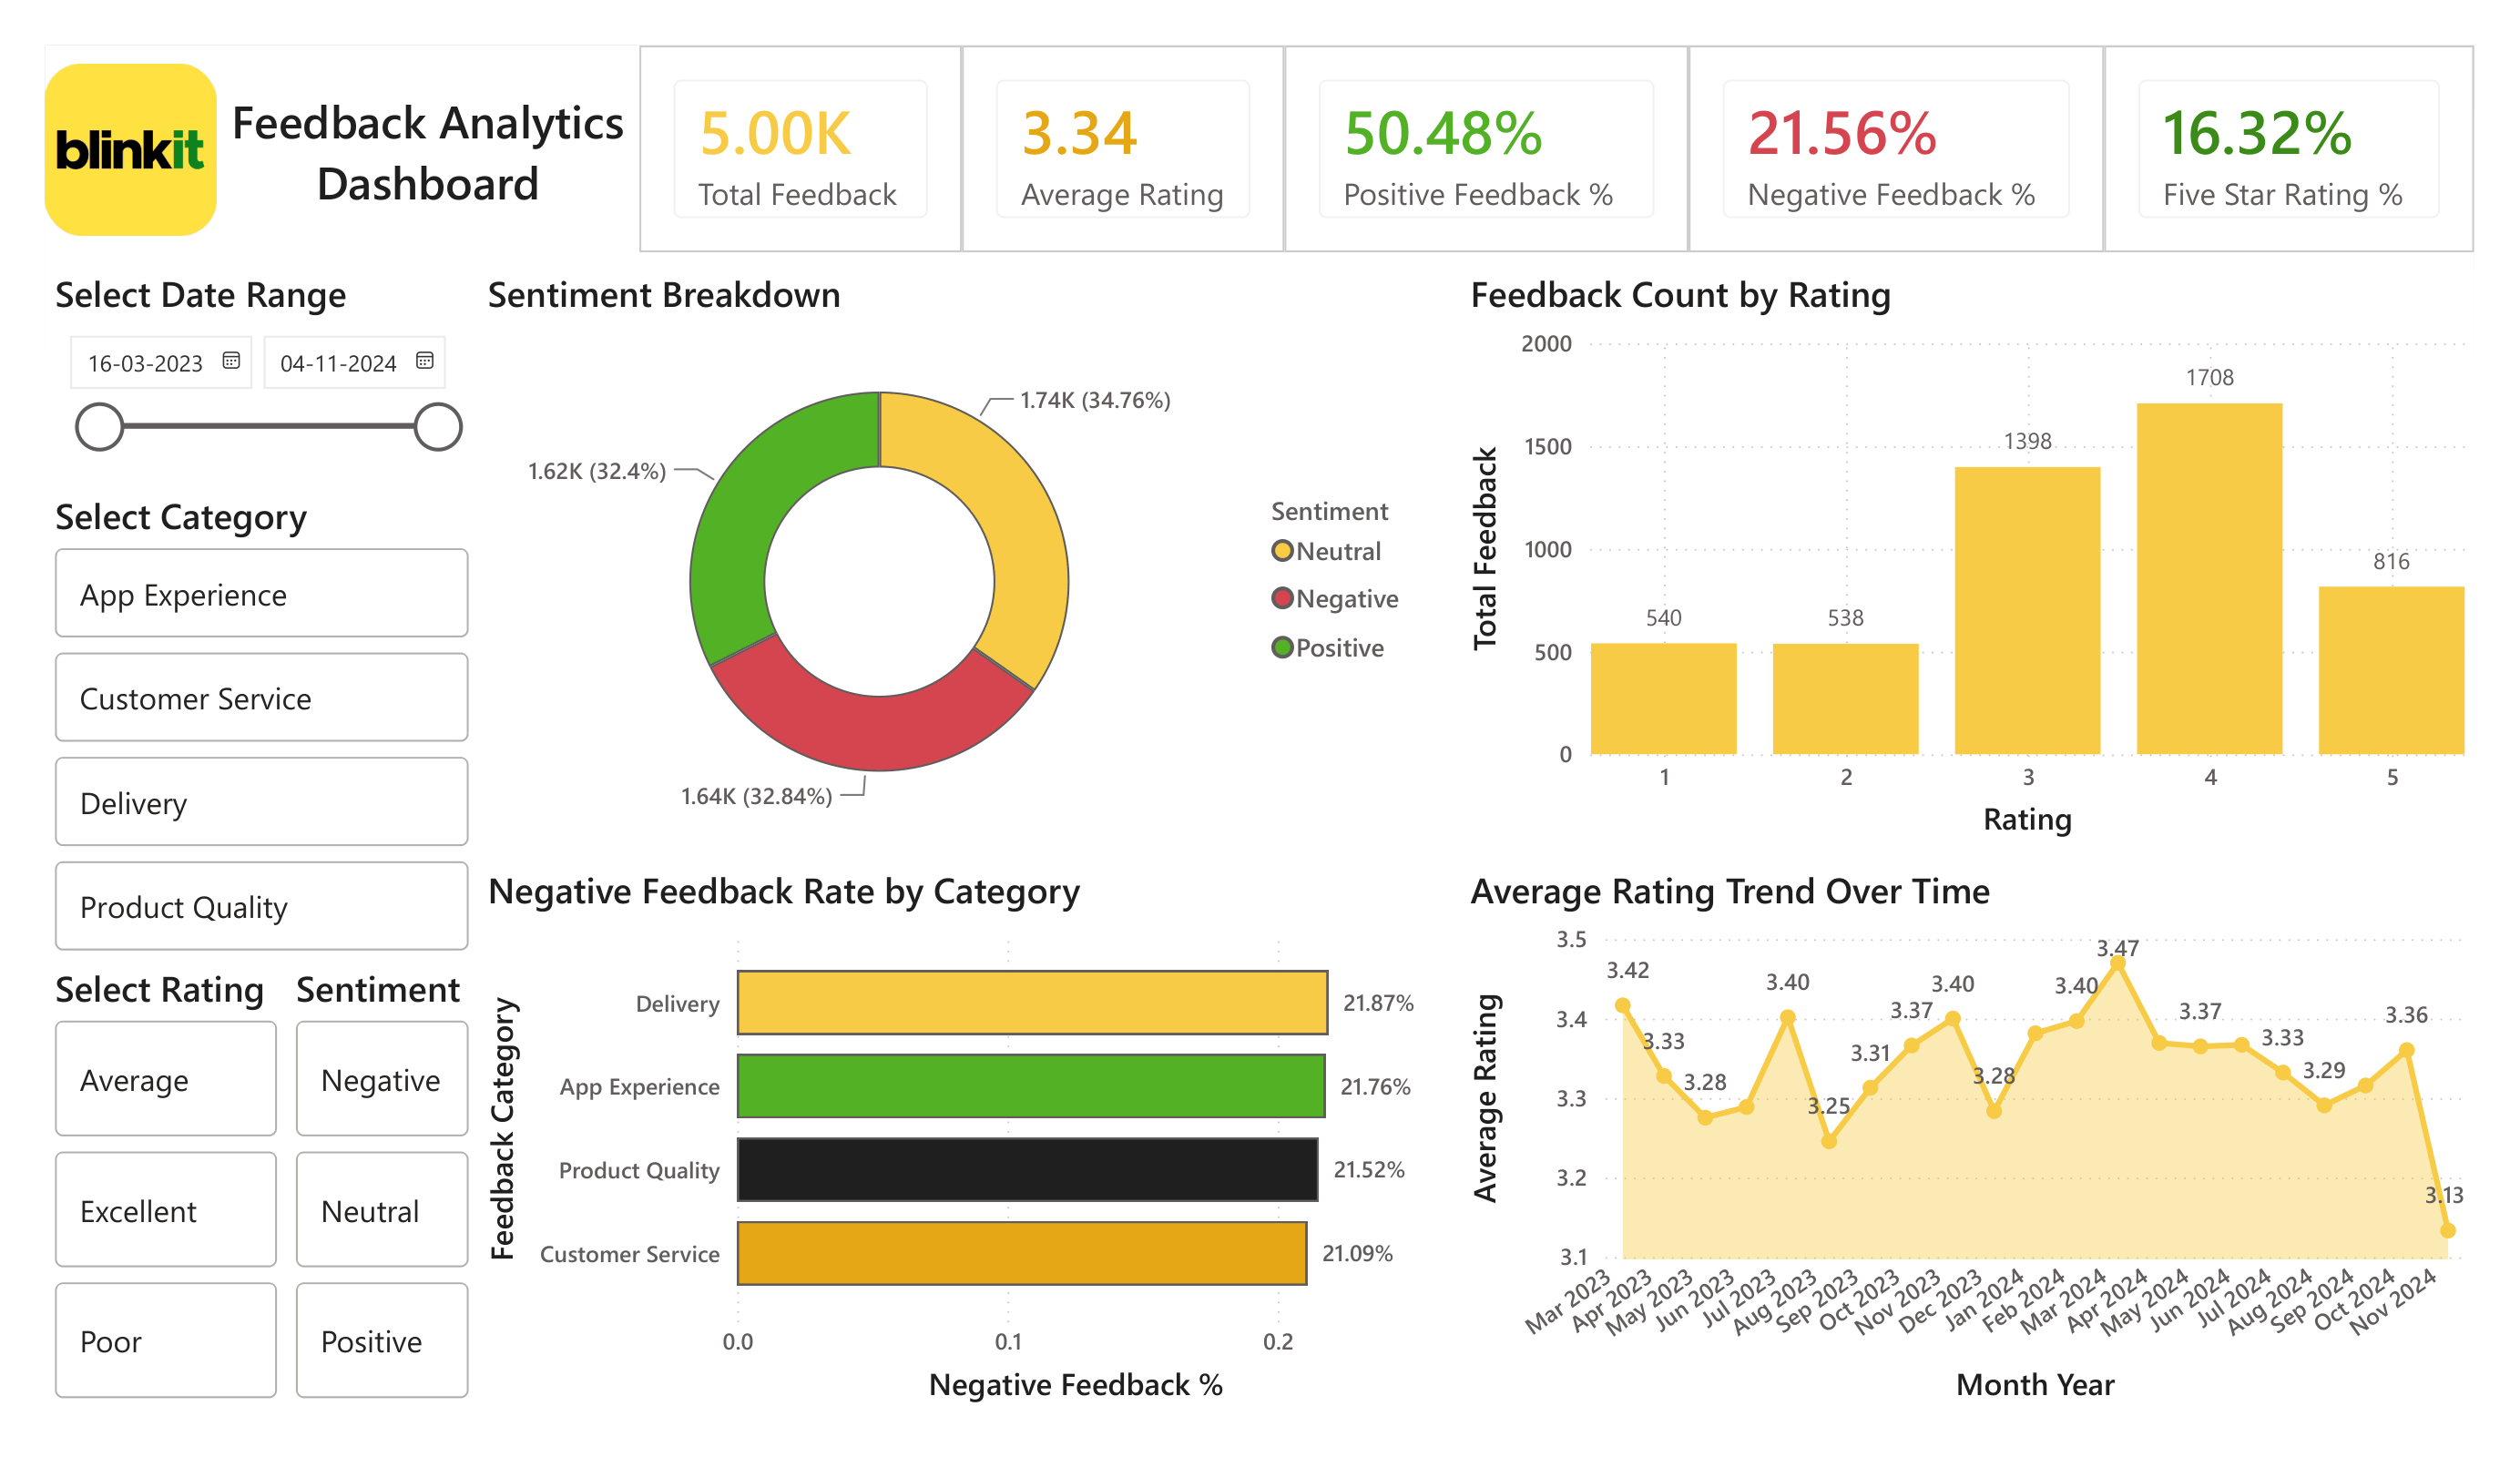

The dashboard page shown, as its layout file describes it:
{"tool":"powerbi","page":{"name":"Feedback Analytics Dashboard","canvas":[1280,720],"ordinal":5},"visuals":[{"type":"cardVisual","fields":{"Data":["measures_table.Total Feedback"]},"box":[312.9,0,170.2,108.9],"z":0},{"type":"cardVisual","fields":{"Data":["measures_table.Average Rating"]},"box":[483.1,0,170.2,108.9],"z":1000},{"type":"cardVisual","fields":{"Data":["measures_table.Positive Feedback %"]},"box":[653.3,0,212.7,108.9],"z":2000},{"type":"cardVisual","fields":{"Data":["measures_table.Negative Feedback %"]},"box":[866,0,219,108.9],"z":3000},{"type":"cardVisual","fields":{"Data":["measures_table.Five Star Rating %"]},"box":[1085,0,195.2,108.9],"z":4000},{"type":"textbox","box":[90,17.5,222.5,92.5],"z":5000},{"type":"donutChart","title":"Sentiment Breakdown","fields":{"Category":["feedback_features.sentiment"],"Y":["measures_table.Total Feedback"]},"box":[227.8,117.6,508.1,304.1],"z":6000},{"type":"clusteredColumnChart","title":"Feedback Count by Rating","fields":{"Y":["measures_table.Total Feedback"],"Category":["feedback_features.rating"]},"box":[745.9,117.6,534.4,304.1],"z":7000},{"type":"barChart","title":"Negative Feedback Rate by Category","fields":{"Category":["feedback_features.feedback_category"],"Y":["measures_table.Negative Feedback %"]},"box":[227.8,431.8,508.1,287.8],"z":8000},{"type":"lineChart","title":"Average Rating Trend Over Time","fields":{"Y":["measures_table.Average Rating"],"Category":["Calender.Month Year"]},"box":[745.9,431.8,534.4,287.8],"z":9000},{"type":"slicer","title":"Select Date Range","fields":{"Values":["Calender.Date"]},"box":[0,118.2,227.6,107],"z":10000},{"type":"advancedSlicerVisual","title":"Select Category","fields":{"Values":["feedback_features.feedback_category"]},"box":[0,235.1,227.6,247.5],"z":11000},{"type":"advancedSlicerVisual","title":"Select Rating","fields":{"Values":["feedback_features.rating_category"]},"box":[0,483.9,126.9,236.4],"z":12000},{"type":"advancedSlicerVisual","title":"Sentiment","fields":{"Values":["feedback_features.sentiment"]},"box":[126.9,483.9,100.8,236.4],"z":13000},{"type":"image","box":[0,10,90,90],"z":14000}]}

Visuals, with their boxes on the page's 1280x720 design canvas (x1, y1, x2, y2). These are canvas units, not pixel positions in the 2520x1457 screenshot, which may show the page scaled, cropped or inside an application window:
cardVisual - measures_table.Total Feedback: x1=313 y1=0 x2=483 y2=109
cardVisual - measures_table.Average Rating: x1=483 y1=0 x2=653 y2=109
cardVisual - measures_table.Positive Feedback %: x1=653 y1=0 x2=866 y2=109
cardVisual - measures_table.Negative Feedback %: x1=866 y1=0 x2=1085 y2=109
cardVisual - measures_table.Five Star Rating %: x1=1085 y1=0 x2=1280 y2=109
textbox: x1=90 y1=18 x2=312 y2=110
"Sentiment Breakdown" donutChart: x1=228 y1=118 x2=736 y2=422
"Feedback Count by Rating" clusteredColumnChart: x1=746 y1=118 x2=1280 y2=422
"Negative Feedback Rate by Category" barChart: x1=228 y1=432 x2=736 y2=720
"Average Rating Trend Over Time" lineChart: x1=746 y1=432 x2=1280 y2=720
"Select Date Range" slicer: x1=0 y1=118 x2=228 y2=225
"Select Category" advancedSlicerVisual: x1=0 y1=235 x2=228 y2=483
"Select Rating" advancedSlicerVisual: x1=0 y1=484 x2=127 y2=720
"Sentiment" advancedSlicerVisual: x1=127 y1=484 x2=228 y2=720
image: x1=0 y1=10 x2=90 y2=100
